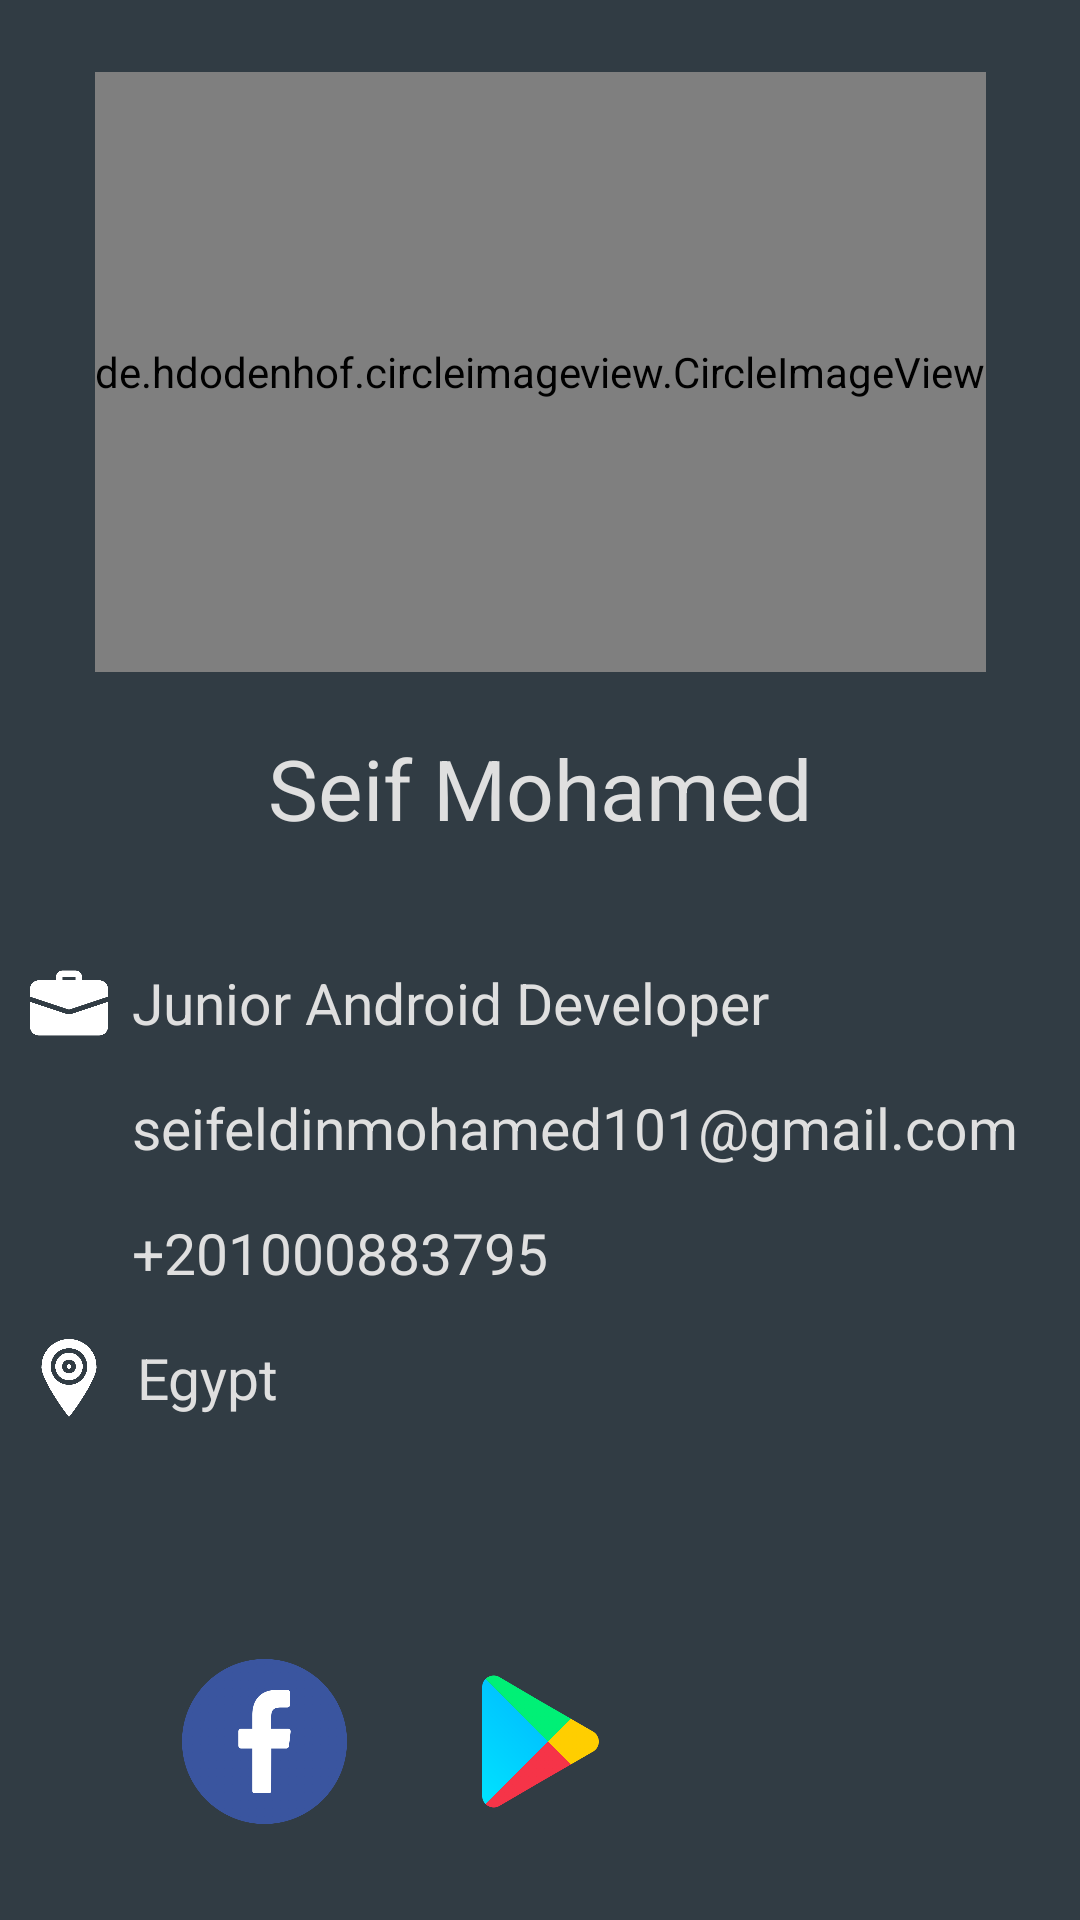

Icon bounding boxes for this 1080 × 1920 phone screenshot, format (x1, y1, x2, y2):
job icon for about fragment: (30, 970, 108, 1036)
place icon for about fragment: (41, 1339, 97, 1417)
